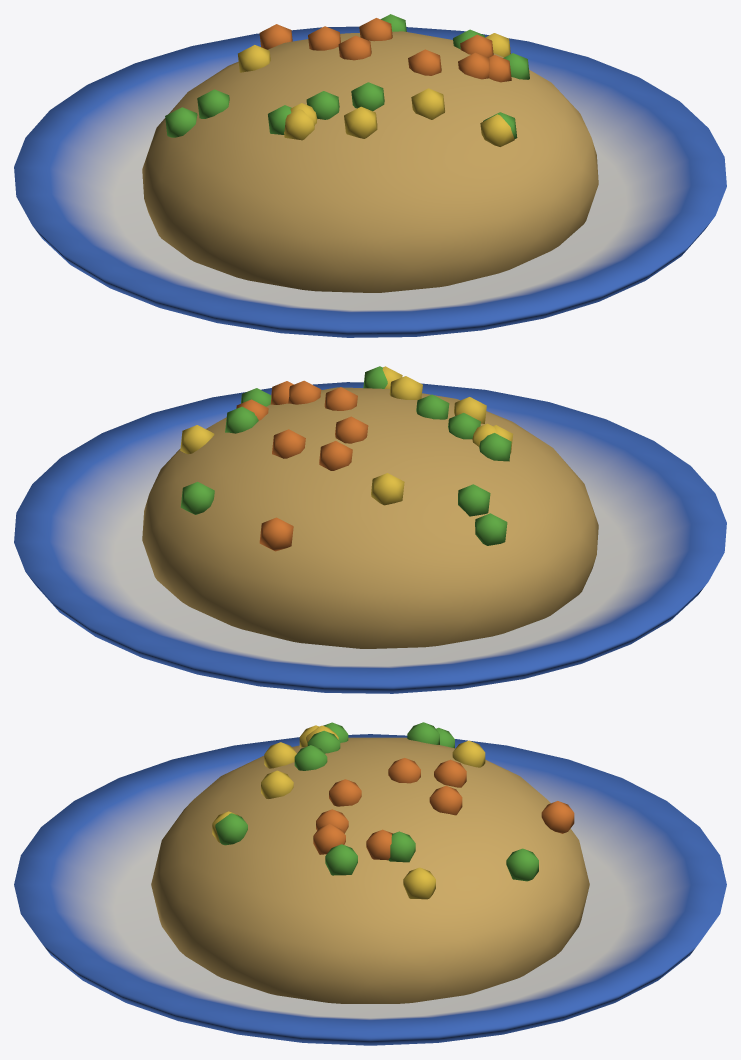
The model's file is item_dish_fried_rice.glb.
3 views of the same model, one above another, from view 1: azimuth 30°, elevation 25°; view 2: azimuth 150°, elevation 25°; view 3: azimuth 270°, elevation 25° (orthographic).
Visible parts, largest first — view 1: item_dish_fried_rice_main; view 2: item_dish_fried_rice_main; view 3: item_dish_fried_rice_main.
Part boxes in pixels (x1=…): item_dish_fried_rice_main: x1=14, y1=14, x2=726, y2=337; item_dish_fried_rice_main: x1=14, y1=366, x2=726, y2=693; item_dish_fried_rice_main: x1=14, y1=722, x2=726, y2=1045.
Size of the model in its own units: 0.26 by 0.0965 by 0.26.
